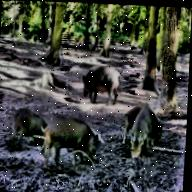boar: (67, 64, 121, 116)
